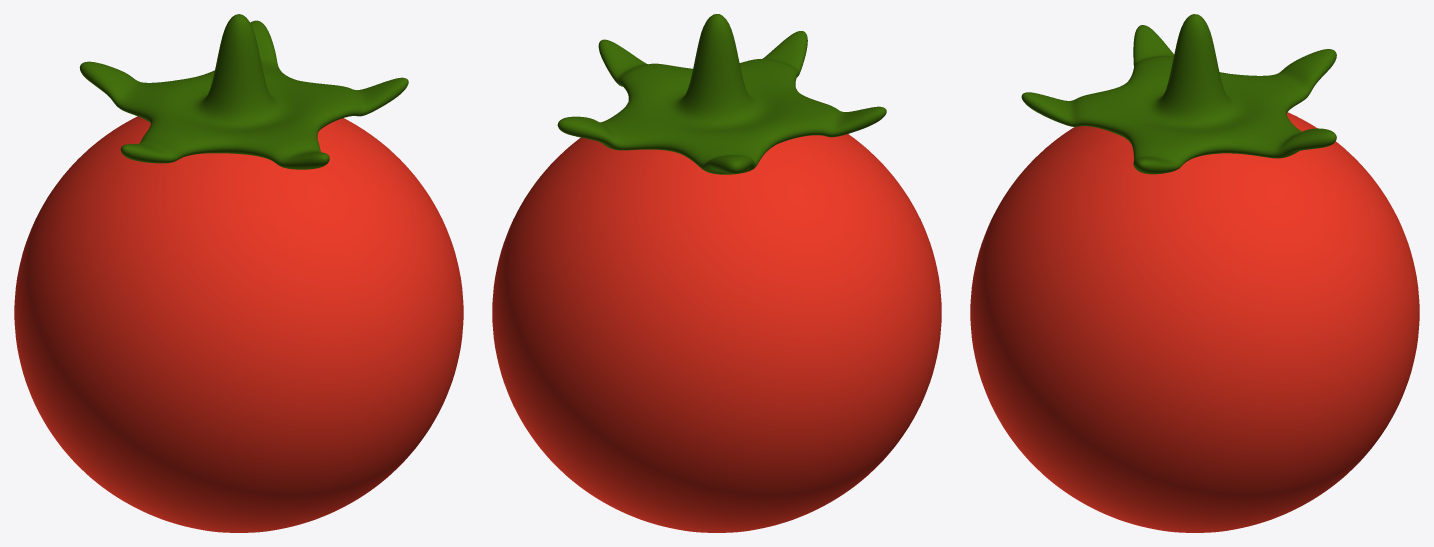
The model's file is Tomato.glb.
3 renders of one model, left to right at view 1: azimuth 30°, elevation 25°; view 2: azimuth 150°, elevation 25°; view 3: azimuth 270°, elevation 25°, orthographic.
Visible parts, largest first — view 1: Sphere, Circle; view 2: Sphere, Circle; view 3: Sphere, Circle.
Part boxes in pixels (box(x1,y1,x2,y2)): Sphere: box(14, 116, 463, 532); Circle: box(79, 14, 408, 169); Sphere: box(492, 134, 941, 532); Circle: box(557, 14, 886, 174); Sphere: box(970, 112, 1419, 532); Circle: box(1021, 14, 1336, 174).
Size of the model in its own units: 1.86 by 2.27 by 1.86.
